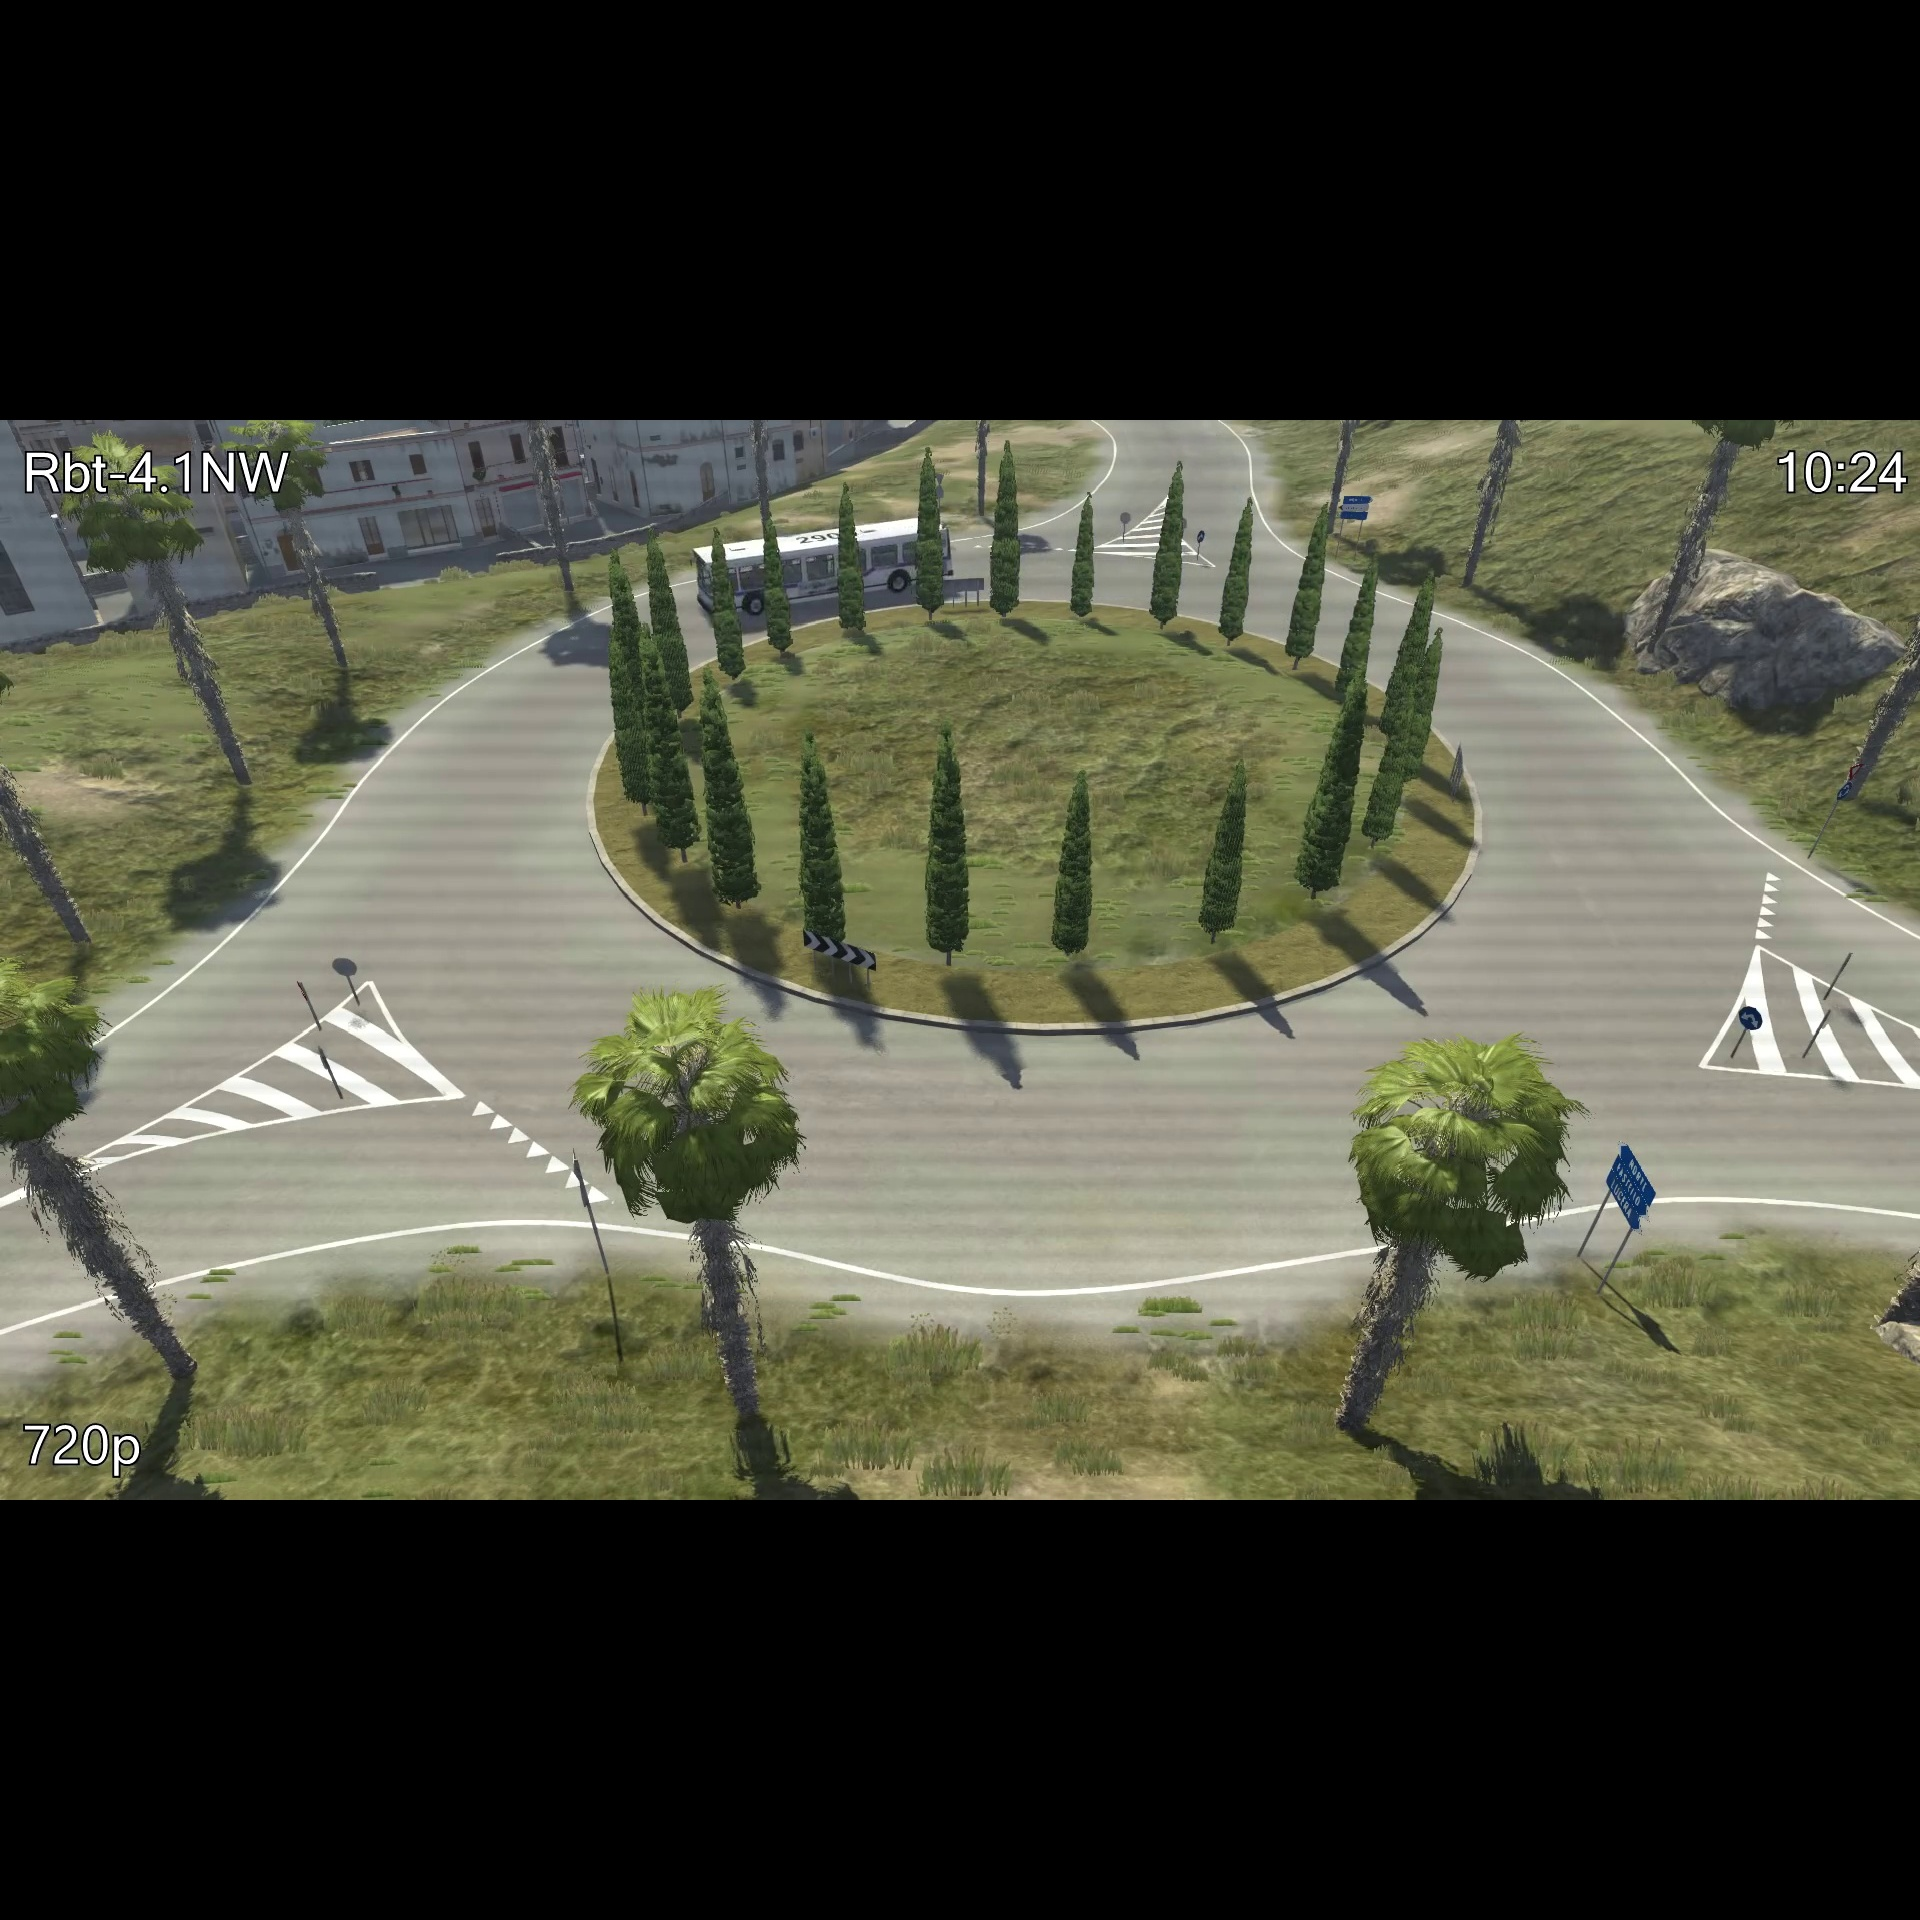vehicle: (693, 510, 960, 622)
